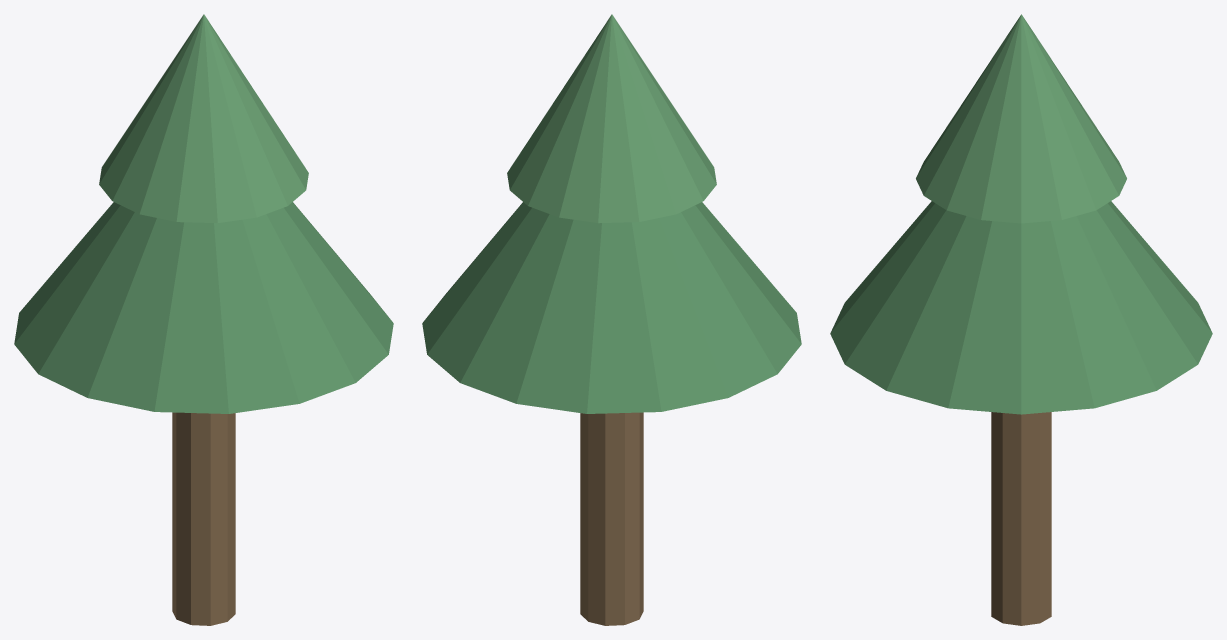
File: large_pine_tree.glb
3 renders of one model, left to right at view 1: azimuth 30°, elevation 25°; view 2: azimuth 150°, elevation 25°; view 3: azimuth 270°, elevation 25°, orthographic.
Visible parts, largest first — view 1: tree_0_1, tree_0_2, tree_0_0; view 2: tree_0_1, tree_0_2, tree_0_0; view 3: tree_0_1, tree_0_2, tree_0_0.
Part boxes in pixels (x1,y1,x2,y2): tree_0_1: (14,202,393,413); tree_0_2: (99,14,308,223); tree_0_0: (172,412,235,625); tree_0_1: (422,202,801,413); tree_0_2: (507,14,716,223); tree_0_0: (580,412,643,625); tree_0_1: (830,201,1212,414); tree_0_2: (916,14,1126,223); tree_0_0: (991,412,1051,625).
Bounding box in the file's own units: 3.88 × 6.69 × 3.88.
